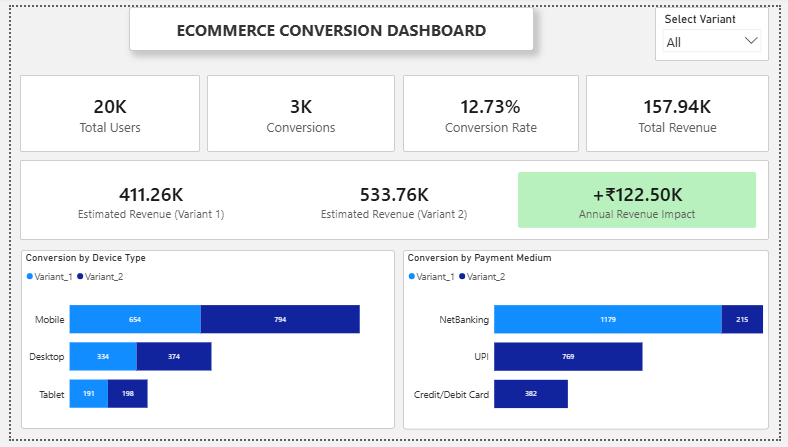

Layout of this report page (visuals, bound fields, positions):
{"tool":"powerbi","page":{"name":"Page 1","canvas":[1280,720],"ordinal":0},"visuals":[{"type":"actionButton","box":[196.7,0,675,73.3],"z":0},{"type":"cardVisual","fields":{"Data":["CountNonNull(A_B_Testing.Converted)"]},"box":[15,113.3,300,128.3],"z":1},{"type":"barChart","title":"Conversion by Device Type","fields":{"Category":["A_B_Testing.DeviceType"],"Series":["A_B_Testing.Variant"],"Y":["Sum(A_B_Testing.Converted)"]},"box":[16.7,405,623.3,298.3],"z":5},{"type":"barChart","title":"Conversion by Payment Medium","fields":{"Category":["A_B_Testing.PaymentGateway"],"Series":["A_B_Testing.Variant"],"Y":["Sum(A_B_Testing.Converted)"]},"box":[653.3,405,610,299],"z":6},{"type":"cardVisual","fields":{"Data":["Sum(A_B_Testing.Revenue)"]},"box":[958.3,113.3,305,128.3],"z":10},{"type":"cardVisual","fields":{"Data":["A_B_Testing.conversion_rate"]},"box":[653.3,113.3,293.3,128.3],"z":11},{"type":"cardVisual","fields":{"Data":["Sum(A_B_Testing.Converted)"]},"box":[326.7,113.3,313.3,128.3],"z":12},{"type":"cardVisual","fields":{"Data":["A_B_Testing.annual_estimated_revenue_1","A_B_Testing.annual_estimated_revenue_2","A_B_Testing.annual_revenue_impact"]},"box":[15,255,1248.3,133.3],"z":13},{"type":"slicer","title":"Select Variant","fields":{"Values":["A_B_Testing.Variant"]},"box":[1073.3,0,190,90],"z":16}]}

Visuals, with their boxes in screenshot pixels (x1, y1, x2, y2), scaled from the page's 1280x720 canvas onto the 788x447 screenshot:
actionButton: (x1=121, y1=0, x2=537, y2=46)
cardVisual - CountNonNull(A_B_Testing.Converted): (x1=9, y1=70, x2=194, y2=150)
"Conversion by Device Type" barChart: (x1=10, y1=251, x2=394, y2=437)
"Conversion by Payment Medium" barChart: (x1=402, y1=251, x2=778, y2=437)
cardVisual - Sum(A_B_Testing.Revenue): (x1=590, y1=70, x2=778, y2=150)
cardVisual - A_B_Testing.conversion_rate: (x1=402, y1=70, x2=583, y2=150)
cardVisual - Sum(A_B_Testing.Converted): (x1=201, y1=70, x2=394, y2=150)
cardVisual - A_B_Testing.annual_estimated_revenue_1 x A_B_Testing.annual_estimated_revenue_2: (x1=9, y1=158, x2=778, y2=241)
"Select Variant" slicer: (x1=661, y1=0, x2=778, y2=56)
